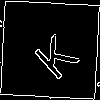K: (25, 25, 81, 82)
